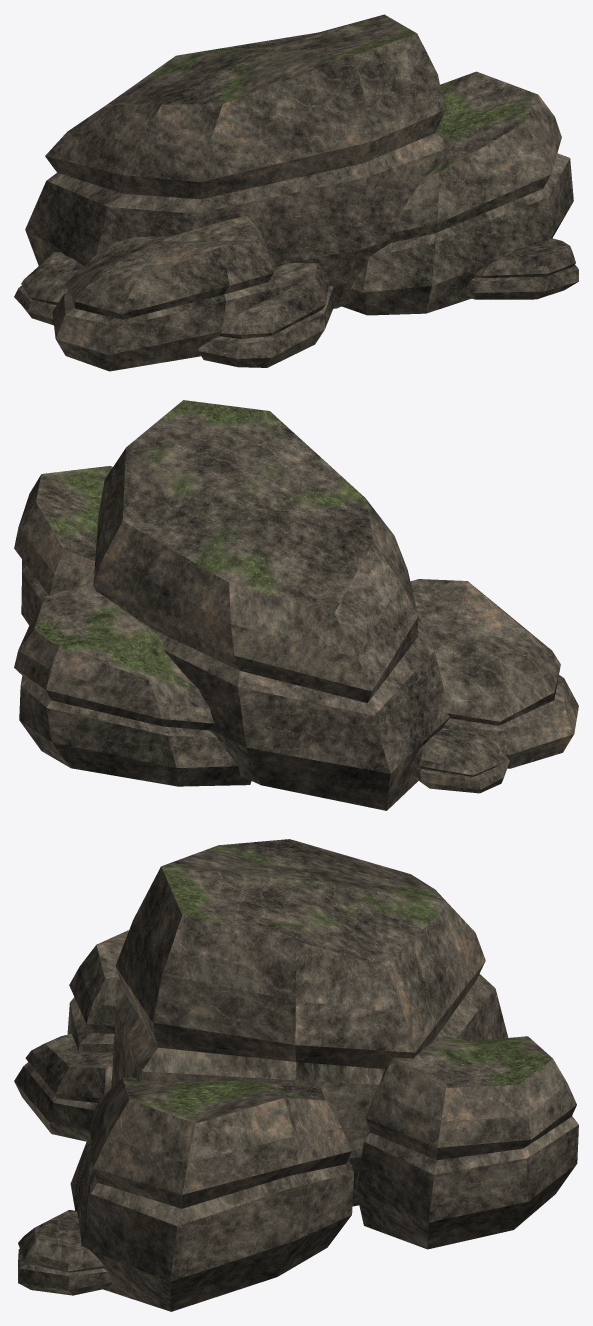
Rendered from rock.glb.
3 renders of one model, top to bottom at view 1: azimuth 30°, elevation 25°; view 2: azimuth 150°, elevation 25°; view 3: azimuth 270°, elevation 25°, orthographic. The views are drawn at different scales.
Visible parts, largest first — view 1: layered shale, moss and shale; view 2: layered shale, moss and shale; view 3: layered shale, moss and shale.
Part boxes in pixels (left/top/right/bottom): layered shale: left=14, top=34, right=578, bottom=371; moss and shale: left=108, top=14, right=537, bottom=177; layered shale: left=14, top=448, right=578, bottom=810; moss and shale: left=34, top=400, right=373, bottom=688; layered shale: left=14, top=867, right=578, bottom=1311; moss and shale: left=123, top=839, right=552, bottom=1123.
Size of the model in its own units: 2.89 by 1.34 by 2.07.
Materials: 2 (2 with a texture image).
